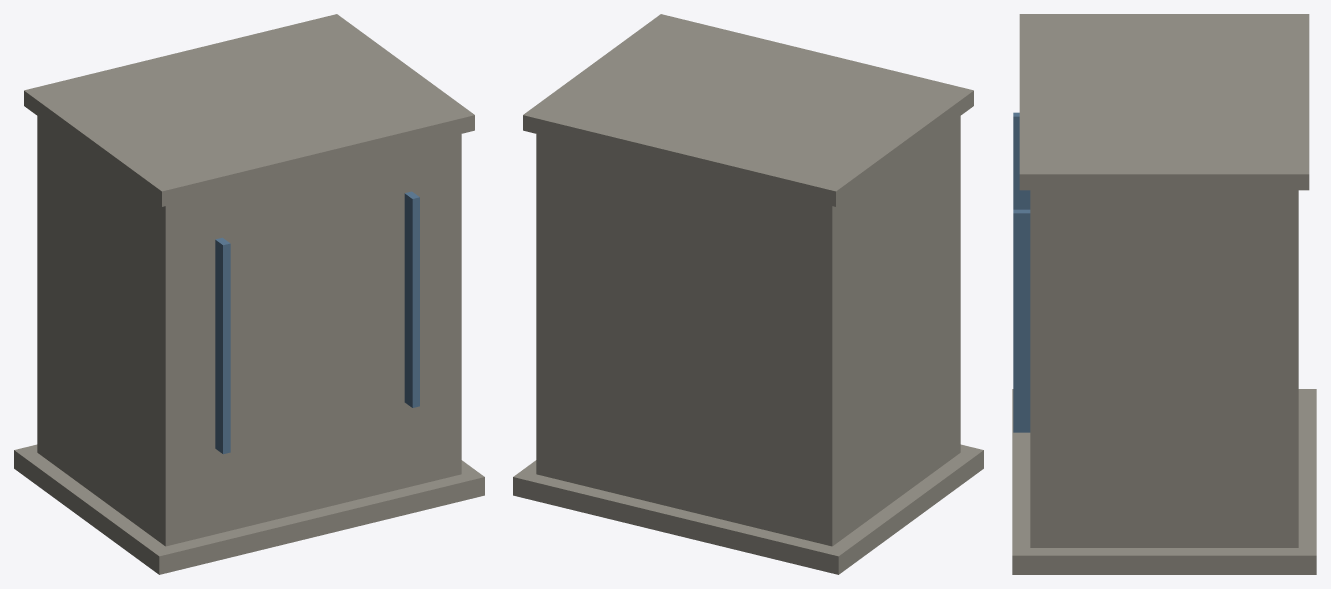
File: bld_residential_a07_lod2.glb
3 views of the same model, side by side, from view 1: azimuth 30°, elevation 25°; view 2: azimuth 150°, elevation 25°; view 3: azimuth 270°, elevation 25° (orthographic). The views are drawn at different scales.
Parts seen in each view (by area): view 1: body; view 2: body; view 3: body.
Part boxes in pixels (x1,y1,x2,y2): body: (14,14,484,574); body: (513,14,983,574); body: (1012,14,1316,574).
Bounding box in the file's own units: 6.6 × 7.35 × 5.1.
